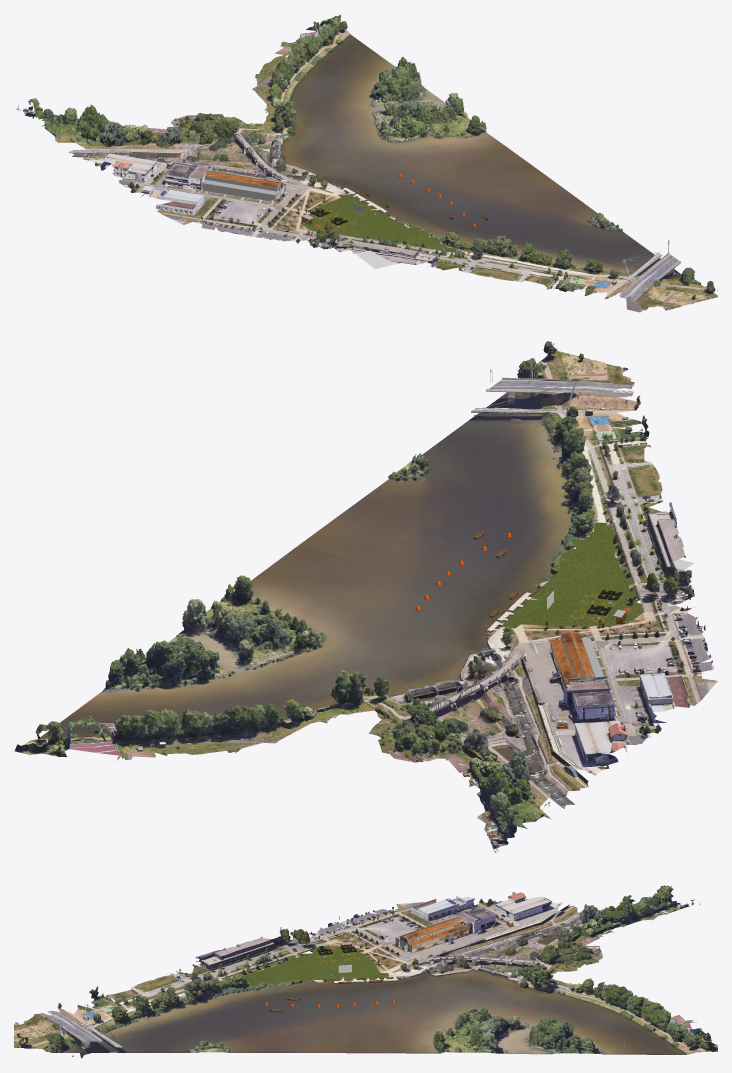
File: aviron.glb
The picture shows the model from 3 angles, top to bottom: view 1: azimuth 30°, elevation 25°; view 2: azimuth 150°, elevation 25°; view 3: azimuth 270°, elevation 25°; orthographic projection. The views are drawn at different scales.
Visible parts, largest first — view 1: Google 3D Tiles, Terrain, Cube, Cube.002; view 2: Google 3D Tiles, Terrain, Cube.002; view 3: Google 3D Tiles, Terrain, Cube.002, Cube.005.
Part boxes in pixels (left/top/right/bottom): Google 3D Tiles: left=16, top=14, right=717, bottom=312; Terrain: left=301, top=193, right=457, bottom=270; Cube: left=202, top=176, right=277, bottom=202; Cube.002: left=205, top=170, right=285, bottom=201; Google 3D Tiles: left=14, top=341, right=717, bottom=852; Terrain: left=359, top=522, right=694, bottom=712; Cube.002: left=550, top=630, right=595, bottom=684; Google 3D Tiles: left=14, top=885, right=717, bottom=1058; Terrain: left=224, top=946, right=389, bottom=986; Cube.002: left=395, top=917, right=467, bottom=952; Cube.005: left=407, top=921, right=468, bottom=952.
Bounding box in the file's own units: 285 × 33.16 × 573.
66 materials, 55 textured.
